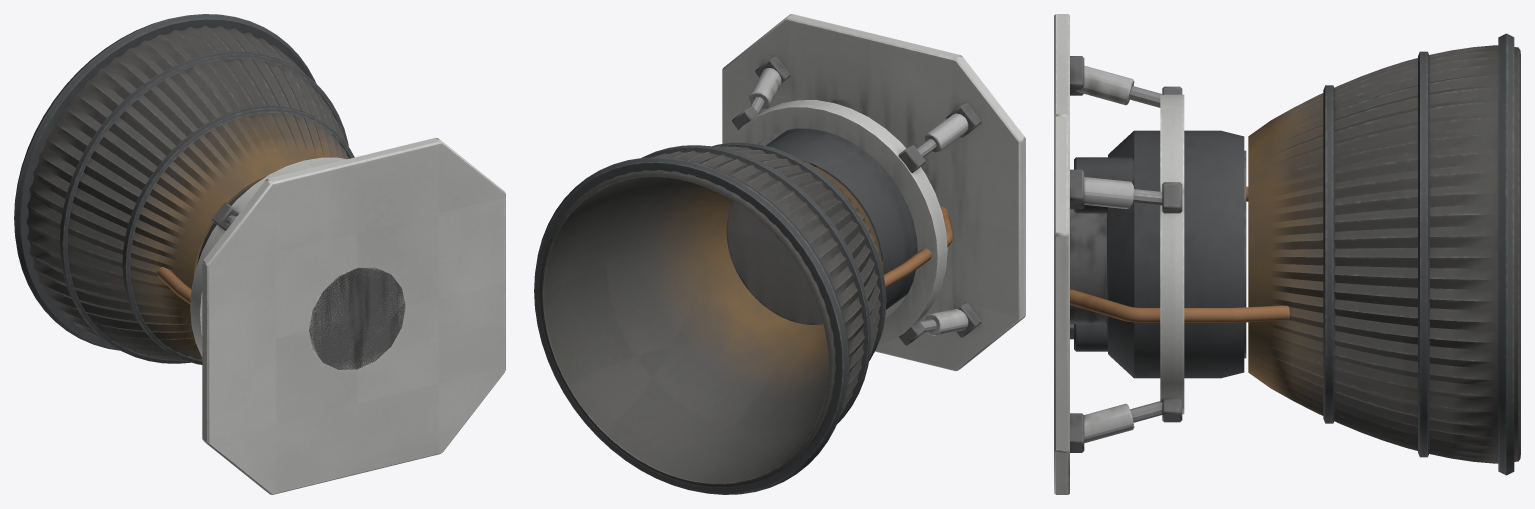
File: bell-L.glb
3 renders of one model, left to right at view 1: azimuth 30°, elevation 25°; view 2: azimuth 150°, elevation 25°; view 3: azimuth 270°, elevation 25°, orthographic. The views are drawn at different scales.
Visible parts, largest first — view 1: bell-L; view 2: bell-L; view 3: bell-L.
Part boxes in pixels (x1=…): bell-L: x1=14, y1=14, x2=505, y2=494; bell-L: x1=534, y1=14, x2=1025, y2=494; bell-L: x1=1054, y1=14, x2=1520, y2=494.
Bounding box in the file's own units: 7.73 × 7.73 × 8.16.
Materials: 1 (1 with a texture image).
